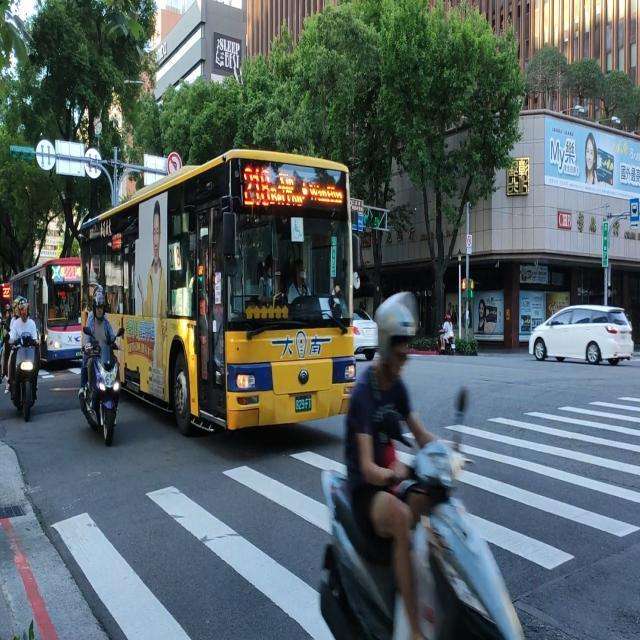Helmet: (362, 284, 424, 381), (85, 278, 113, 322), (10, 290, 35, 321)
bike: (315, 385, 532, 640), (75, 323, 128, 442), (4, 328, 46, 416)
rider: (341, 284, 444, 640), (80, 279, 122, 357), (6, 293, 42, 346)
